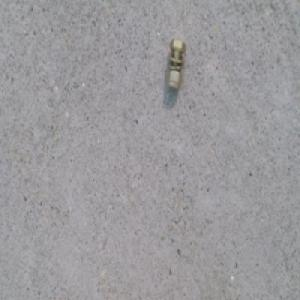BoltNutSet: (163, 40, 186, 90)
